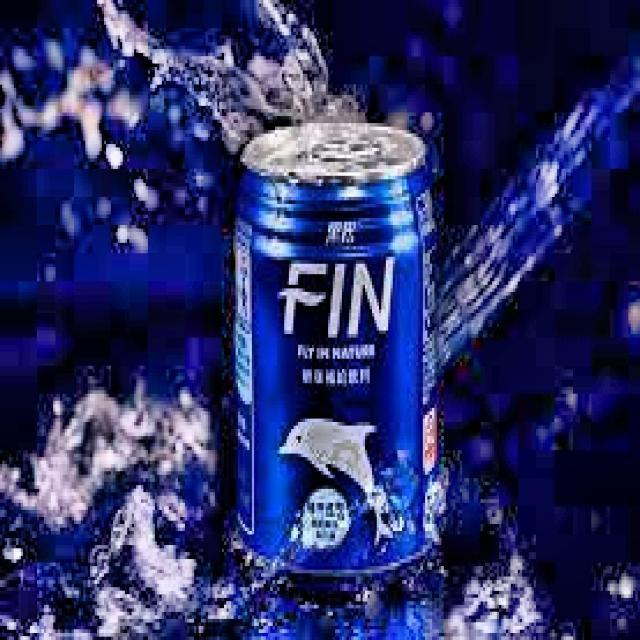Aluminum Can: (225, 100, 448, 590)
